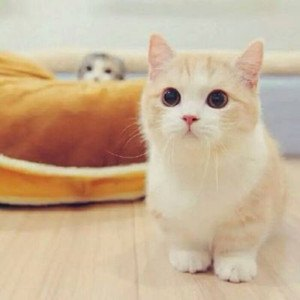cat: (139, 42, 268, 158), (67, 50, 130, 87)
